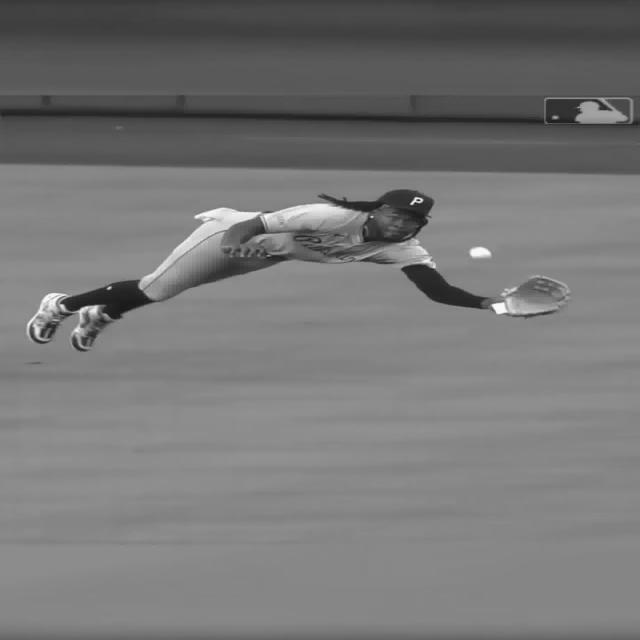baseball: (470, 247, 493, 261)
baseball_glove: (496, 272, 574, 316)
shoe: (71, 304, 121, 356), (27, 292, 73, 346)
